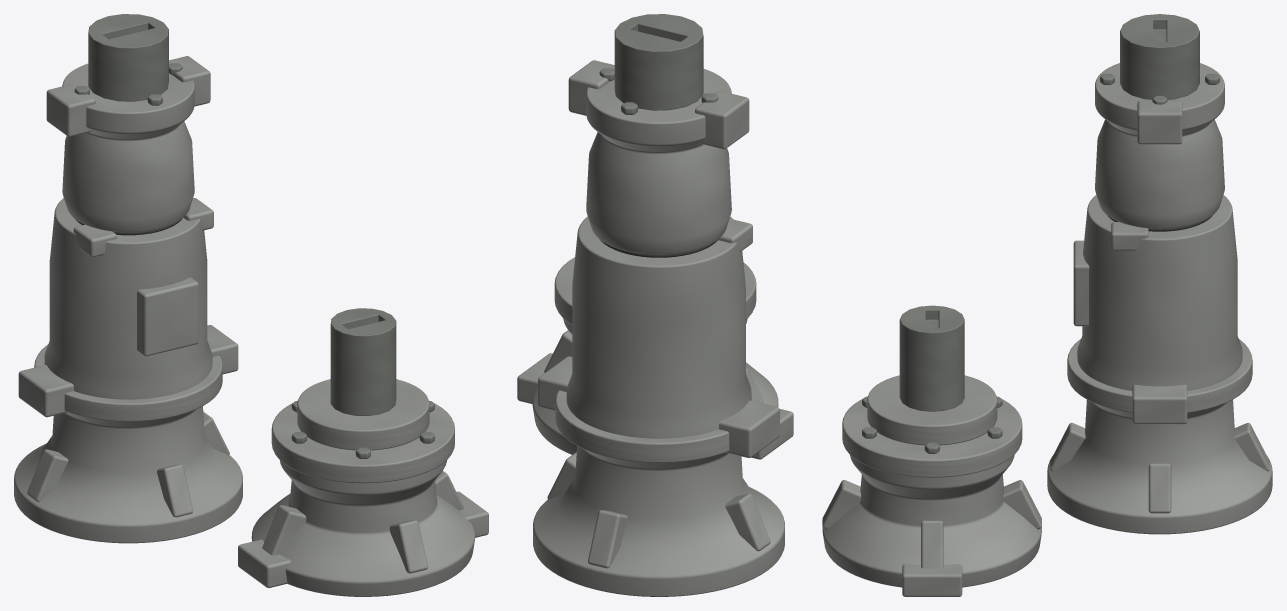
File: brake_valves_without_handles.glb
3 views of the same model, side by side, from view 1: azimuth 30°, elevation 25°; view 2: azimuth 150°, elevation 25°; view 3: azimuth 270°, elevation 25° (orthographic). The views are drawn at different scales.
Visible parts, largest first — view 1: Tall_Lower_Casting, Short_Lower_Casting, Tall_Upper_Casting, Short_Flange, Short_Exposed_Spindle, Tall_Exposed_Spindle, Short_Cover, Tall_Front_Cast_Boss, Tall_Lower_Flange, Tall_Lower_Flange_Ear_1, Tall_Cap_Ear_1, Short_Mounting_Lug_-0.042 (+8 smaller); view 2: Tall_Lower_Casting, Tall_Upper_Casting, Tall_Exposed_Spindle, Tall_Lower_Flange, Tall_Lower_Flange_Ear_1, Tall_Cap_Ear_1, Short_Lower_Casting, Tall_Foot_Rib_1, Tall_Foot_Rib_2, Short_Flange, Tall_Cap_Ear_0, Tall_Lower_Flange_Ear_0 (+6 smaller); view 3: Tall_Lower_Casting, Short_Lower_Casting, Tall_Upper_Casting, Short_Flange, Short_Exposed_Spindle, Tall_Exposed_Spindle, Short_Cover, Tall_Lower_Flange, Tall_Lower_Flange_Ear_0, Tall_Cap_Ear_0, Short_Mounting_Lug_0.042, Tall_Front_Cast_Boss (+7 smaller).
Boxes of the visible parts, x1,y1,x2,y2 form: Tall_Lower_Casting: (14,198,242,543); Short_Lower_Casting: (251,460,474,596); Tall_Upper_Casting: (62,63,194,232); Short_Flange: (271,403,454,483); Short_Exposed_Spindle: (330,308,396,415); Tall_Exposed_Spindle: (88,14,168,101); Short_Cover: (297,379,429,450); Tall_Front_Cast_Boss: (137,277,198,356); Tall_Lower_Flange: (34,344,222,421); Tall_Lower_Flange_Ear_1: (18,365,73,417); Tall_Cap_Ear_1: (46,84,95,136); Short_Mounting_Lug_-0.042: (238,539,290,587); Tall_Lower_Casting: (533,216,784,596); Tall_Upper_Casting: (586,69,731,254); Tall_Exposed_Spindle: (614,14,703,110); Tall_Lower_Flange: (555,378,762,462); Tall_Lower_Flange_Ear_1: (719,400,779,457); Tall_Cap_Ear_1: (695,91,749,149); Short_Lower_Casting: (532,318,778,454); Tall_Foot_Rib_1: (588,510,627,568); Tall_Foot_Rib_2: (725,493,770,551); Short_Flange: (554,257,756,324); Tall_Cap_Ear_0: (568,60,614,115); Tall_Lower_Flange_Ear_0: (538,356,572,410); Tall_Lower_Casting: (1047,195,1272,534); Short_Lower_Casting: (822,455,1041,587); Tall_Upper_Casting: (1095,63,1224,228); Short_Flange: (842,399,1022,477); Short_Exposed_Spindle: (899,305,964,411); Tall_Exposed_Spindle: (1120,14,1199,99); Short_Cover: (867,375,997,445); Tall_Lower_Flange: (1067,339,1252,412); Tall_Lower_Flange_Ear_0: (1132,384,1187,424); Tall_Cap_Ear_0: (1137,101,1182,144); Short_Mounting_Lug_0.042: (902,563,962,596); Tall_Front_Cast_Boss: (1073,240,1089,326).
Size of the model in its own units: 0.1495 by 0.2015 by 0.1799.
3 materials, 2 textured.
